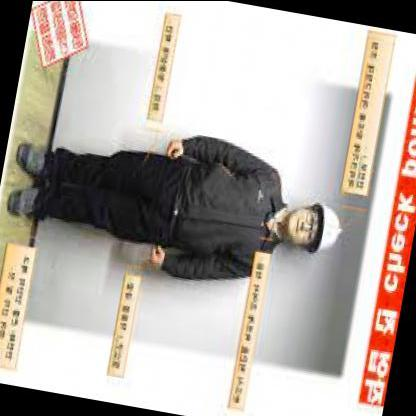safety-shoe: (1, 175, 54, 227), (8, 130, 59, 179)
